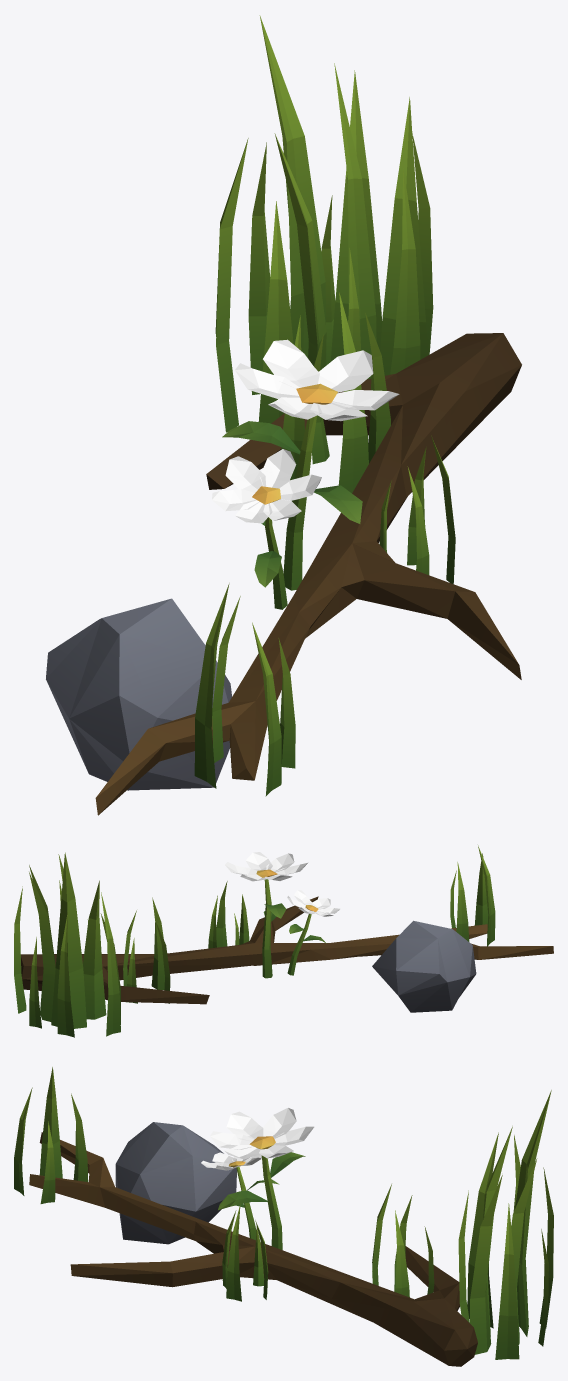
The model's file is Branch_04.fbx.
3 views of the same model, one above another, from view 1: azimuth 30°, elevation 25°; view 2: azimuth 150°, elevation 25°; view 3: azimuth 270°, elevation 25° (orthographic). The views are drawn at different scales.
Parts seen in each view (by area): view 1: Branch_04; view 2: Branch_04; view 3: Branch_04.
Boxes of the visible parts, left/top/right/bottom form: Branch_04: left=46, top=15, right=521, bottom=815; Branch_04: left=14, top=845, right=553, bottom=1037; Branch_04: left=14, top=1067, right=553, bottom=1366.
Size of the model in its own units: 0.9706 by 0.5327 by 0.9682.
